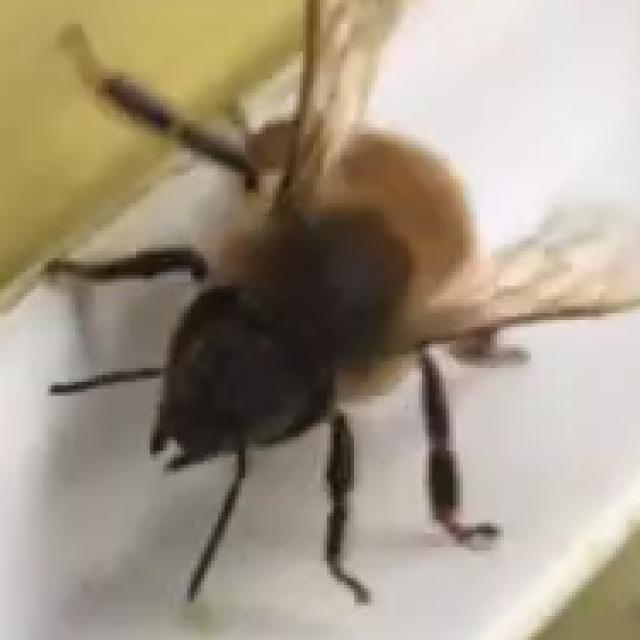honeybee: (39, 0, 624, 639)
